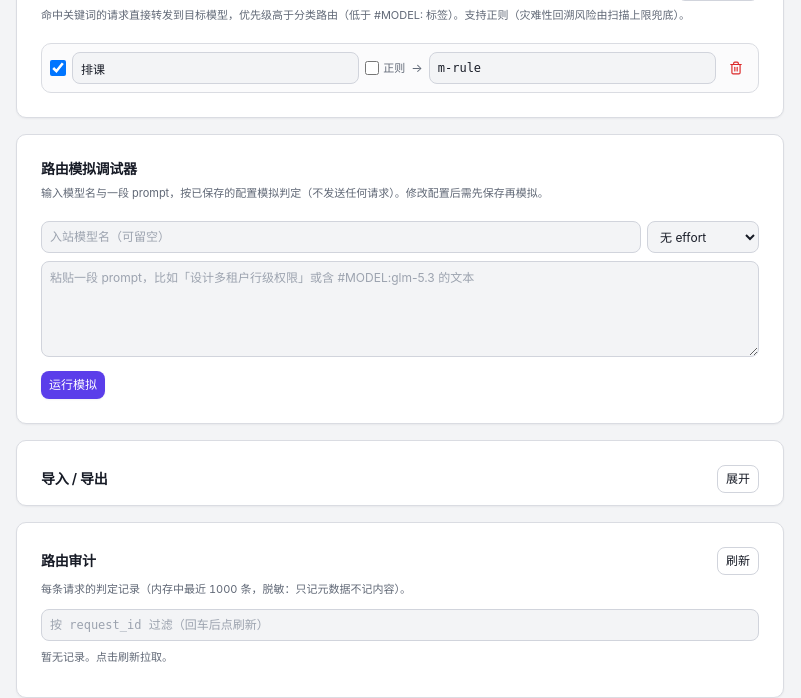
SmartRoutePage › renders audit rows after refresh
(page scrolled)
Click the button with test id "audit-refresh-button": coordinates (738, 561) [717,547,759,575]
(page scrolled)
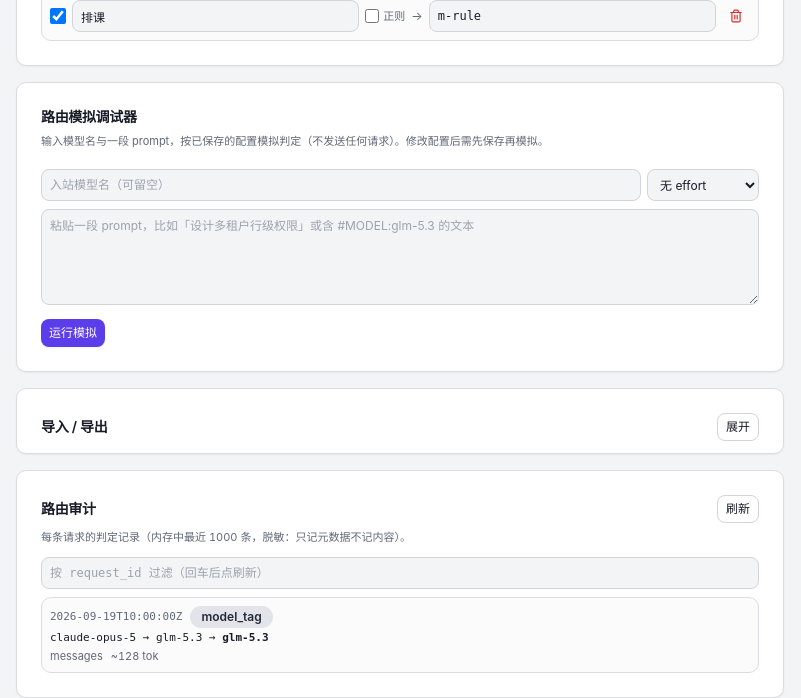
Now the element with test id "audit-row-req-0001" is shown, box [41,597,759,673]
Now the element with test id "audit-row-req-0001" shows "claude-opus-5", box [50,631,136,644]
